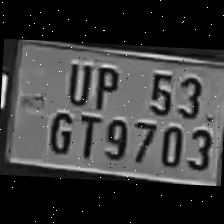0: (154, 118, 182, 168)
3: (172, 70, 204, 116), (183, 124, 214, 171)
5: (142, 68, 174, 114)
7: (127, 116, 156, 165)
9: (100, 114, 128, 160)
G: (44, 106, 74, 154)
P: (90, 61, 121, 110)
T: (74, 112, 100, 158)
U: (60, 57, 91, 104)
